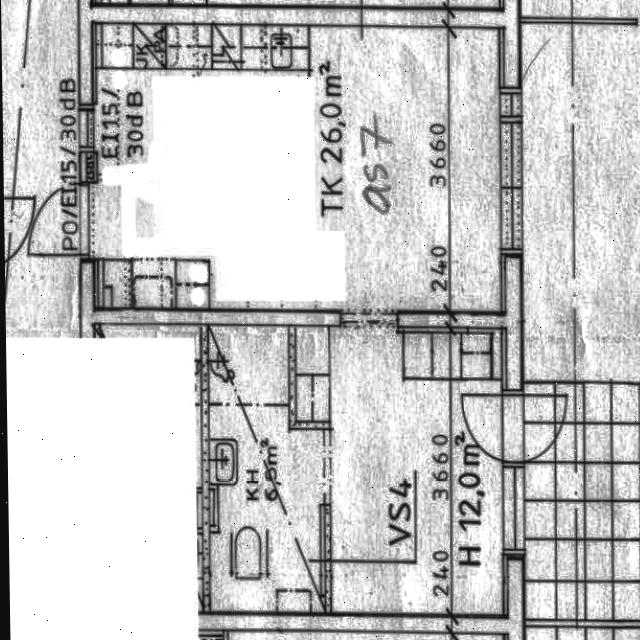room: (89, 23, 503, 312), (294, 325, 502, 616), (207, 324, 324, 614)
